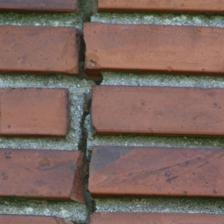Crack: (34, 10, 73, 212)
